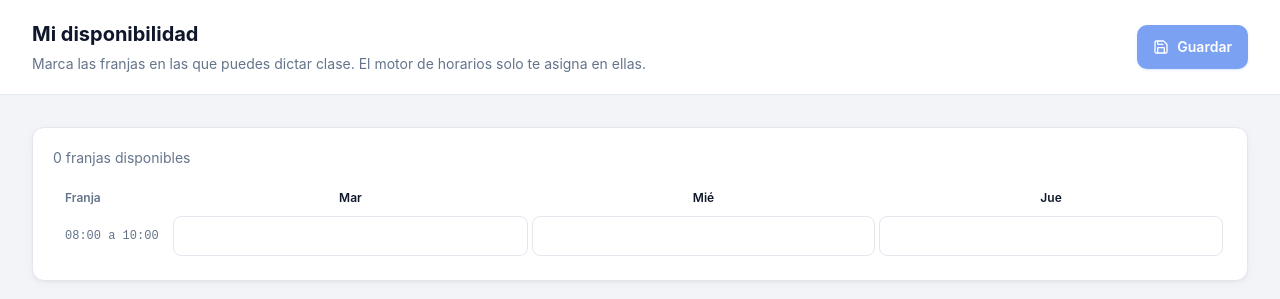
Mi disponibilidad (RF-16) › una franja de varios días se marca en todos sus días a la vez
Click the button named "Miércoles 08:00 a 10:00: no disponible" at {"x": 703, "y": 236}, box x1=532 y1=216 x2=875 y2=256
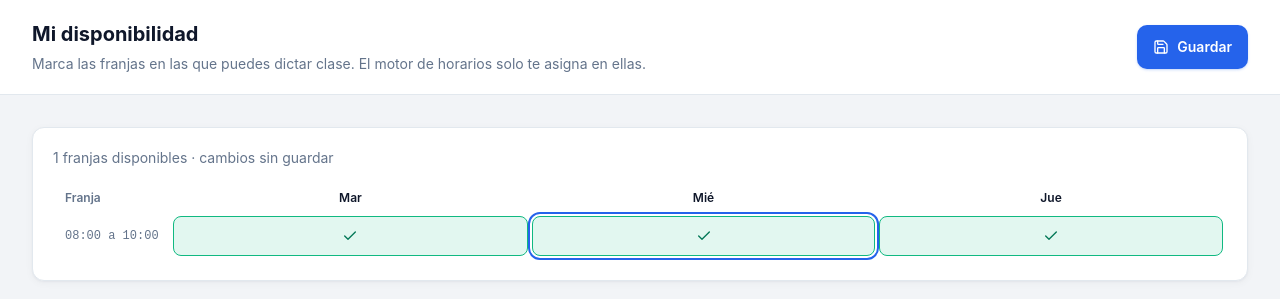
Now the text "1 franjas disponibles · cambios sin guardar" is shown, box x1=53 y1=149 x2=334 y2=166
